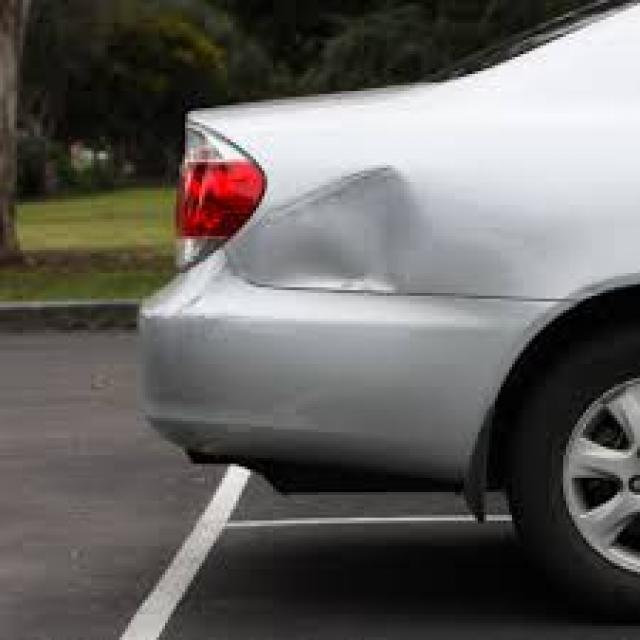minor: (214, 144, 472, 307)
